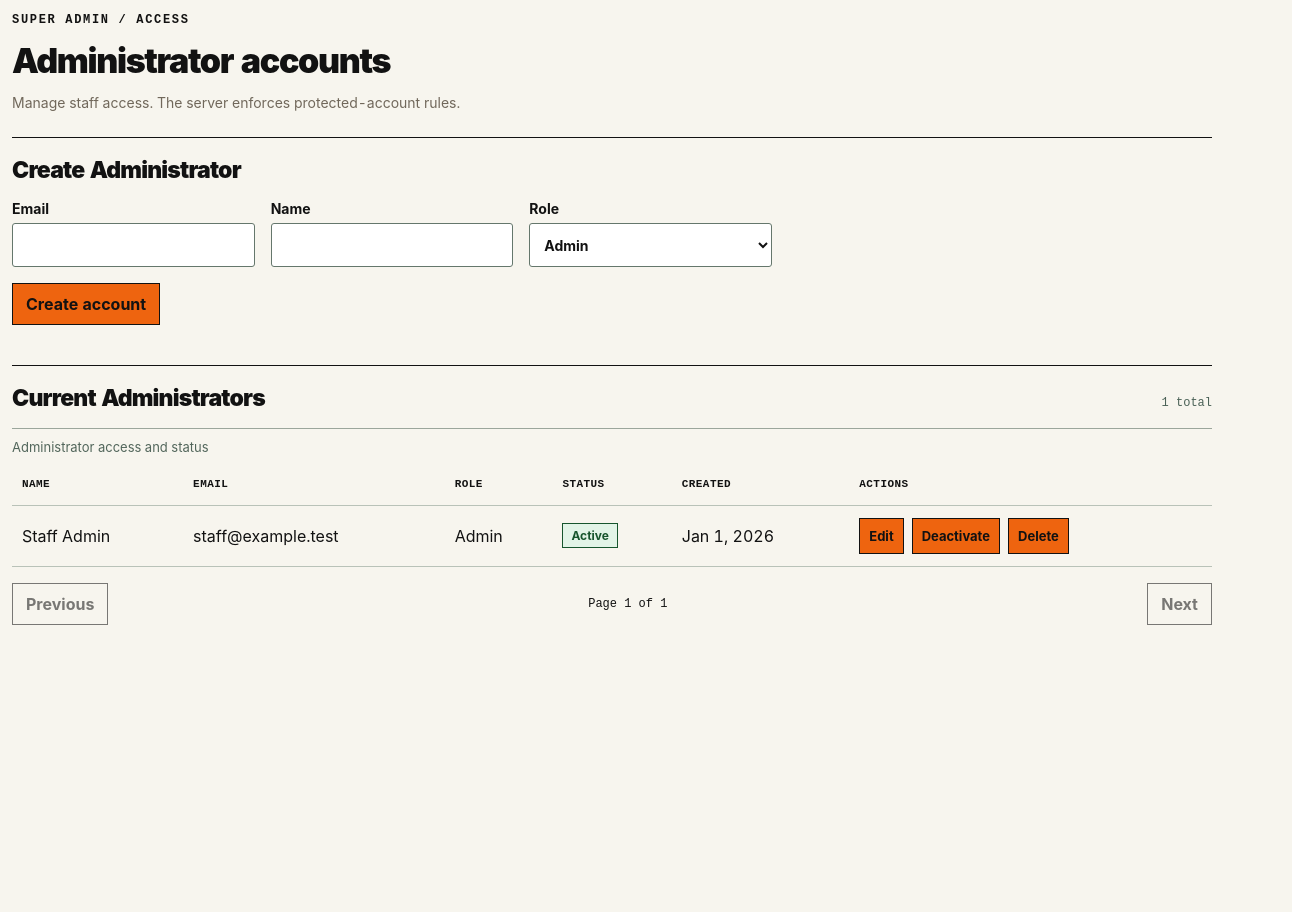
Test: Super Admin account management › requires list review before retry after an ambiguous create response
This screenshot has width=1292, height=912.
expect the text "staff@example.test" is shown: met, box [183, 505, 445, 566]
Type "new@example.test" into the field labelled "Email".
click(133, 245); type("new@example.test")  # box [12, 223, 255, 267]
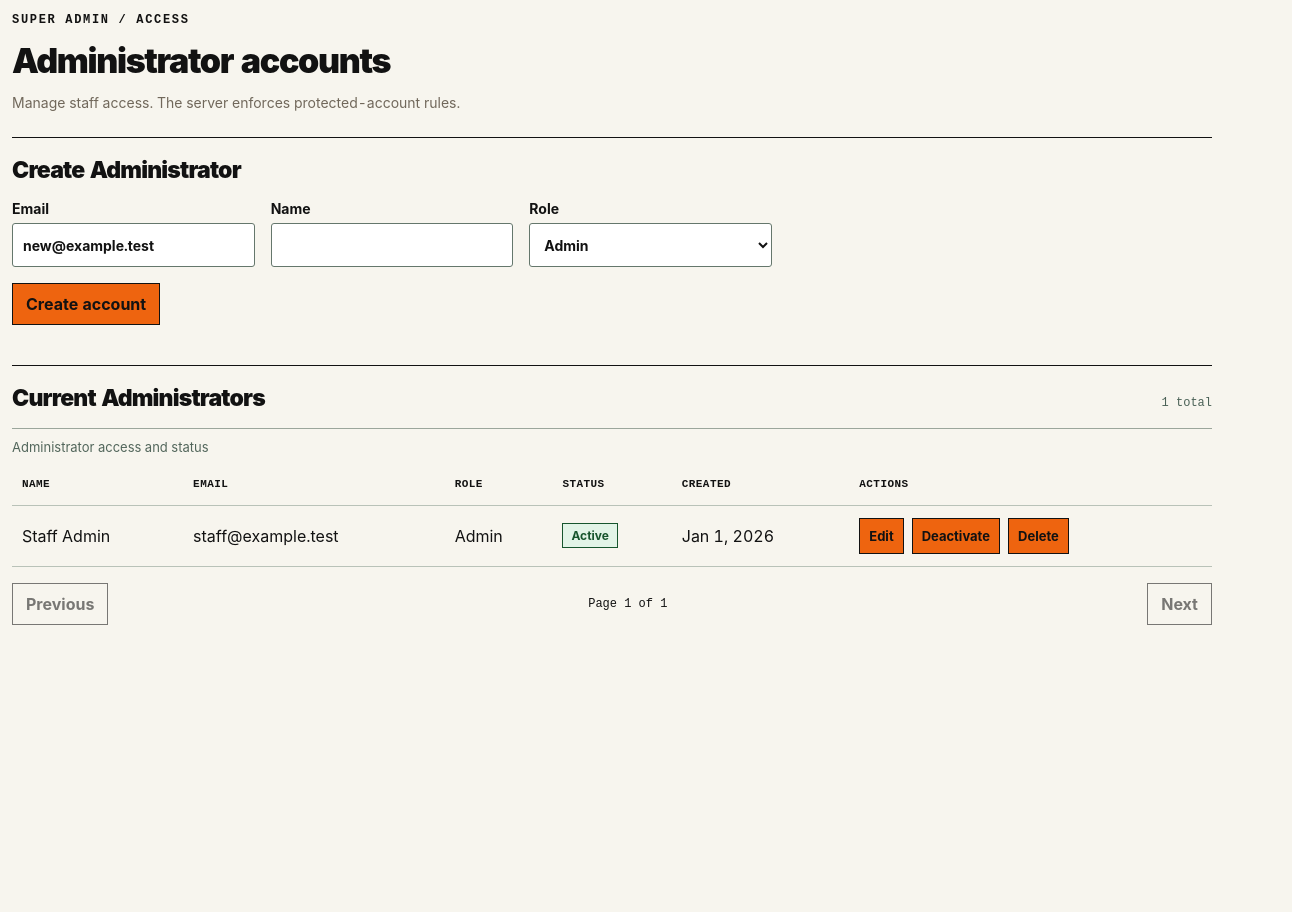
Type "New Staff" into the field labelled "Name".
click(392, 245); type("New Staff")  # box [271, 223, 513, 267]
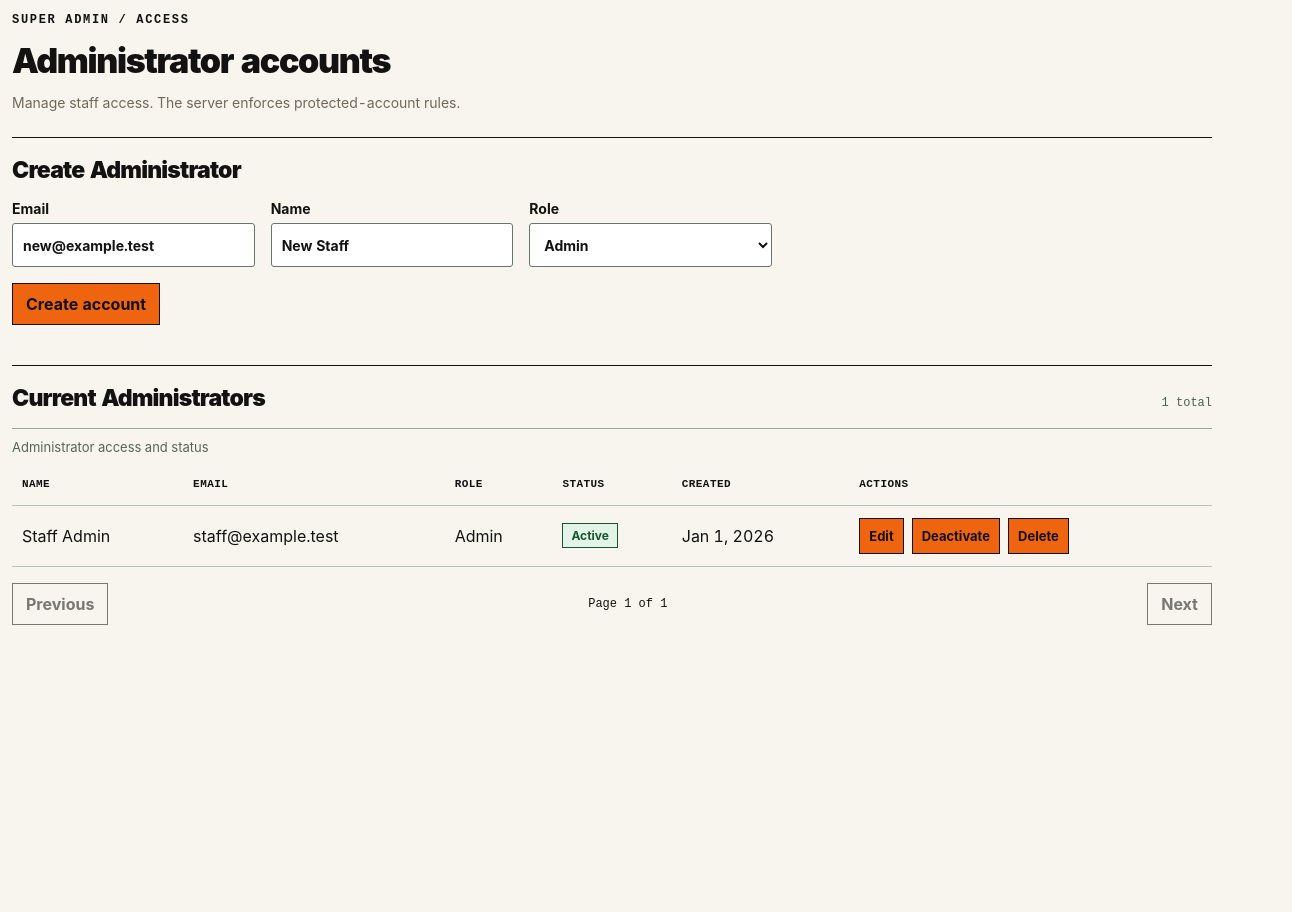
Click the button "Create account".
click(86, 304)  # box [12, 283, 160, 325]
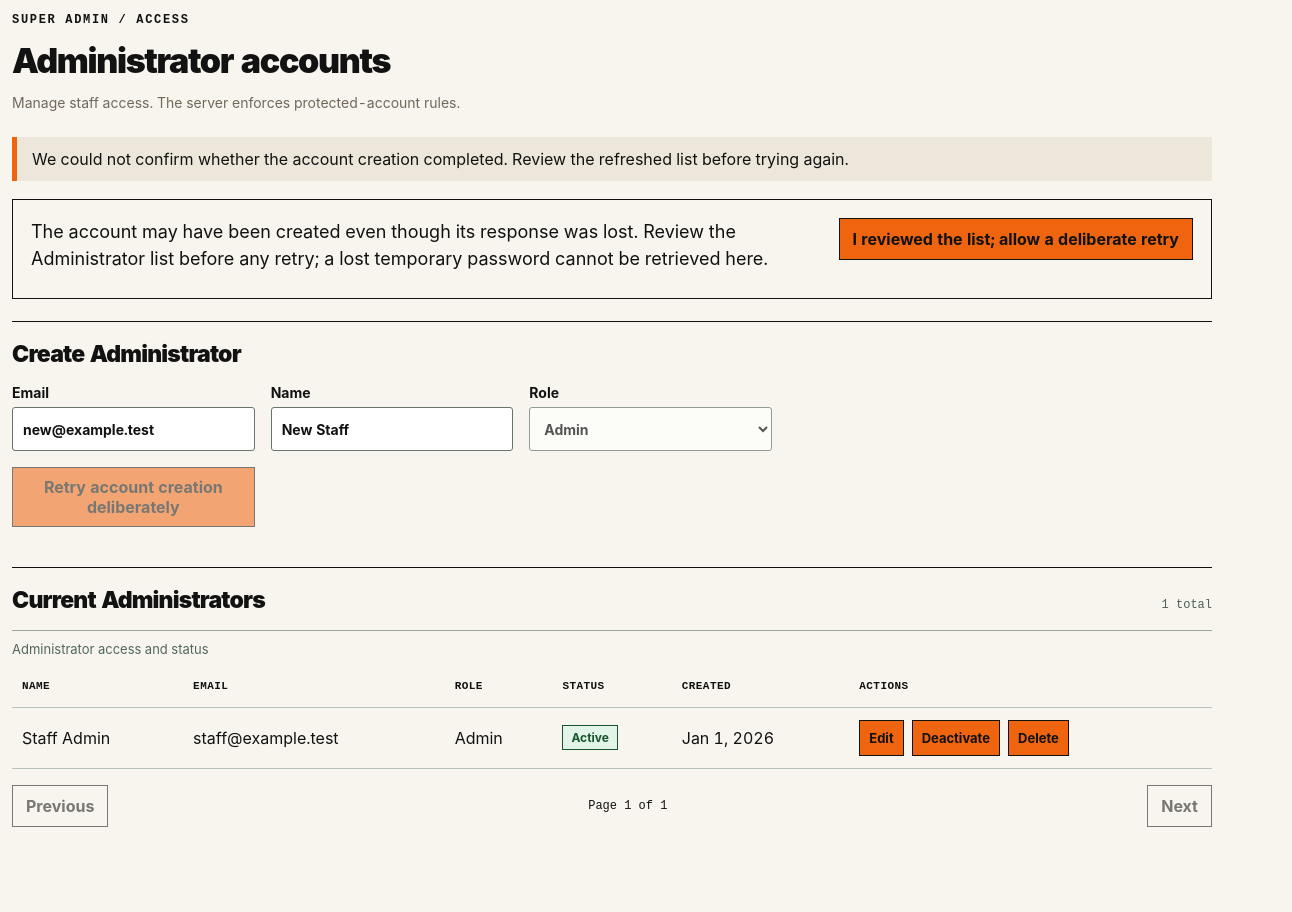
expect the 2nd message shows "may have been created": met, box [31, 221, 768, 269]
expect the button "Retry account creation deliberately" is disabled: met, box [12, 467, 255, 527]
Click the button "I reviewed the list; allow a deliberate retry".
click(1016, 239)  # box [838, 218, 1193, 260]
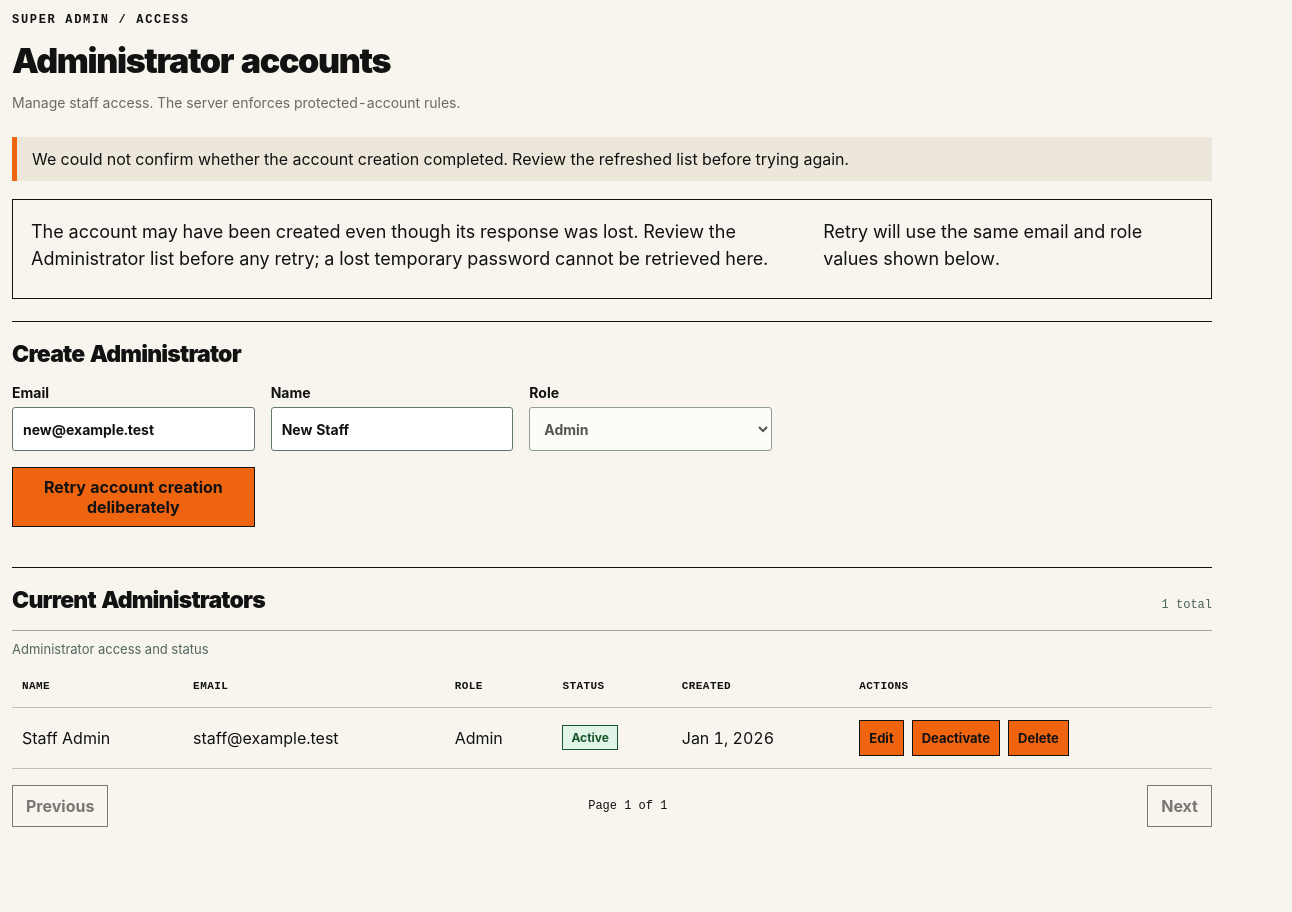
expect the button "Retry account creation deliberately" is enabled: met, box [12, 467, 255, 527]
